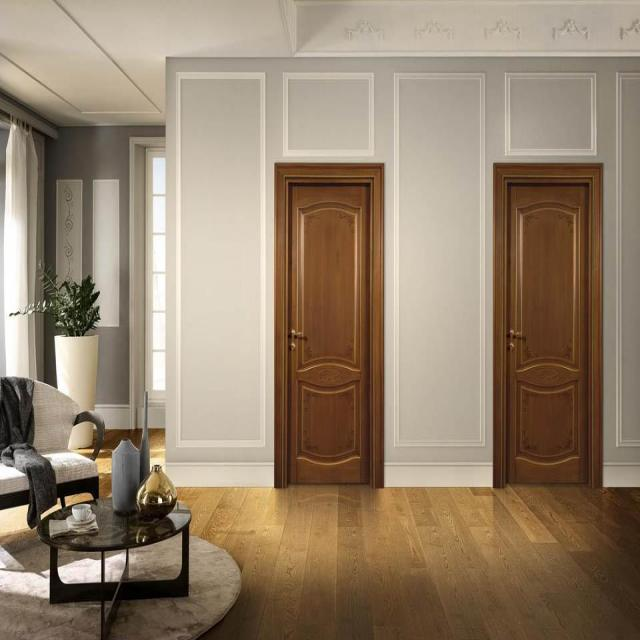close: (494, 166, 610, 488), (276, 169, 382, 485)
